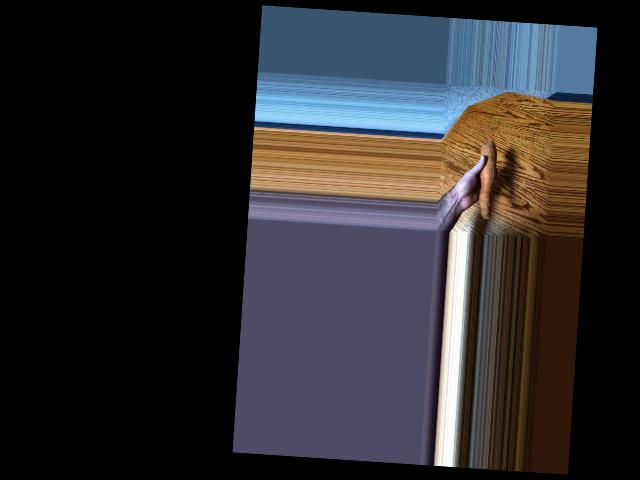sweet_potato: (472, 143, 500, 219)
